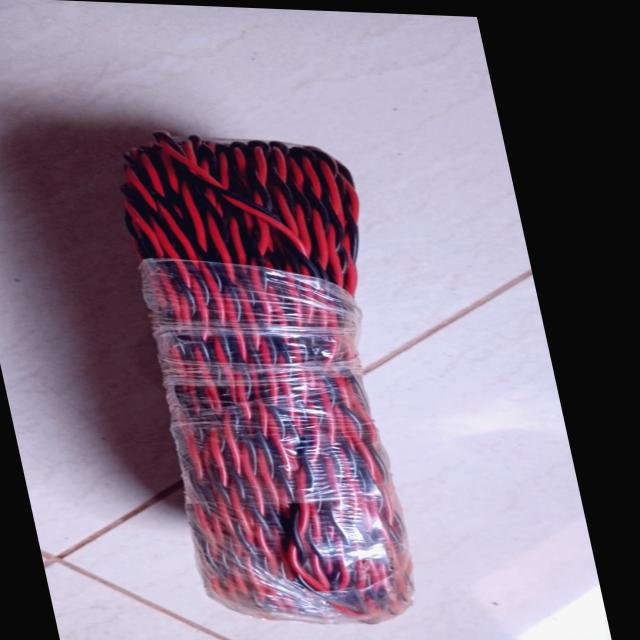Connecting Wires: (67, 127, 464, 636)
